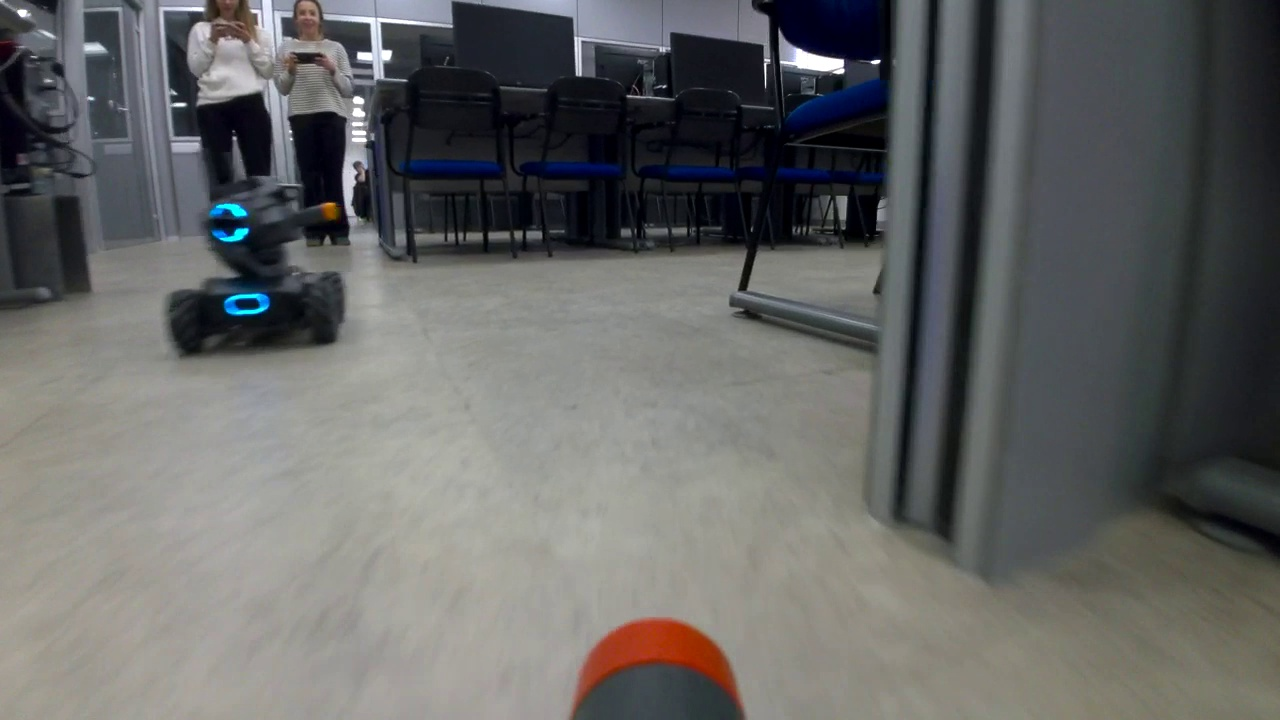robot: (163, 178, 349, 362)
